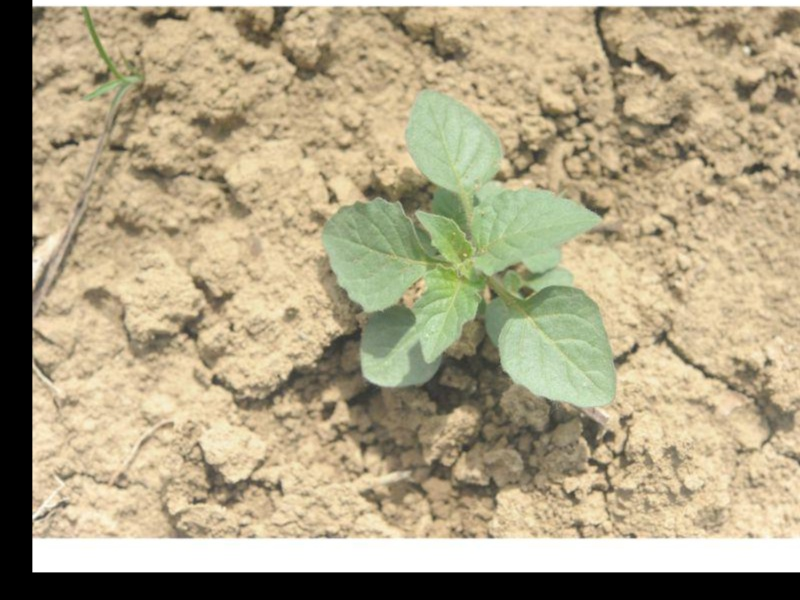nightshade: (324, 85, 615, 406)
